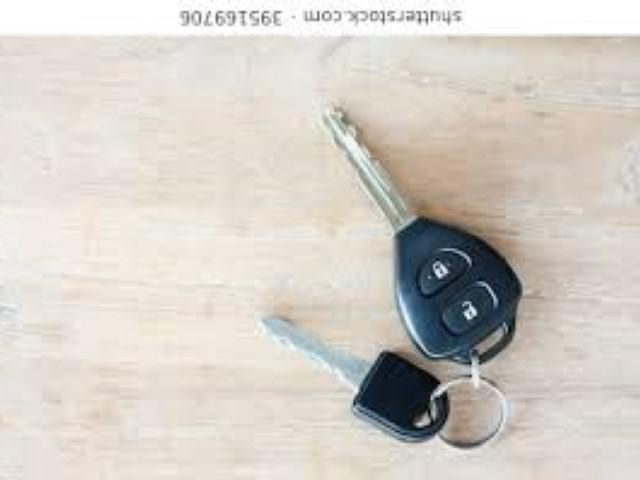key: (322, 106, 524, 480)
